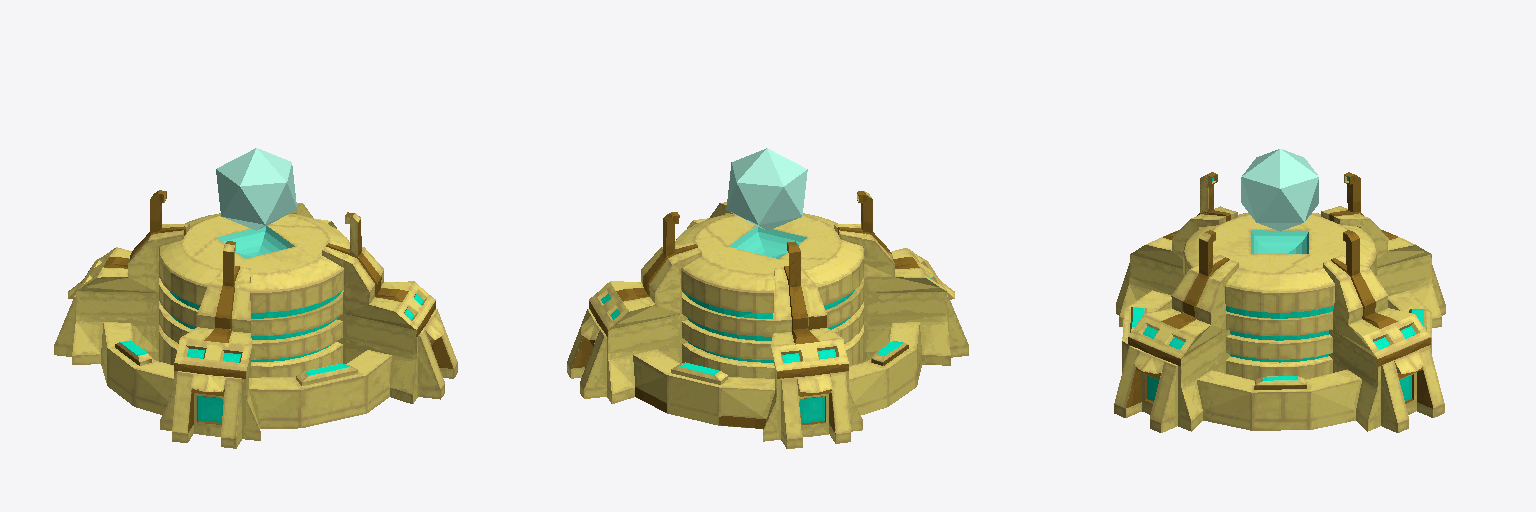
3 views of the same model, side by side, from view 1: azimuth 30°, elevation 25°; view 2: azimuth 150°, elevation 25°; view 3: azimuth 270°, elevation 25° (orthographic).
Parts seen in each view (by area): view 1: drorania_command_center; view 2: drorania_command_center; view 3: drorania_command_center.
Part boxes in pixels (left/top/right/bottom): drorania_command_center: left=54, top=148, right=457, bottom=448; drorania_command_center: left=567, top=148, right=968, bottom=448; drorania_command_center: left=1114, top=149, right=1445, bottom=432.
Bounding box in the file's own units: 385 × 278 × 388.
Materials: 1 (1 with a texture image).